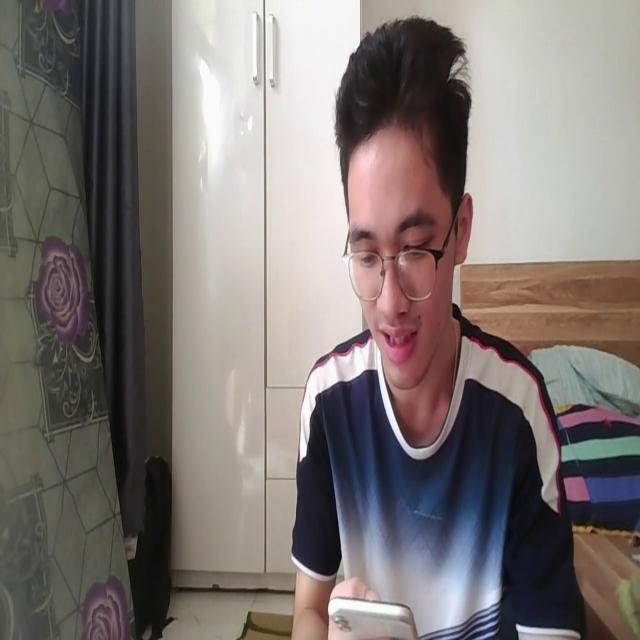phone: (326, 586, 421, 640)
student: (290, 14, 586, 640)
